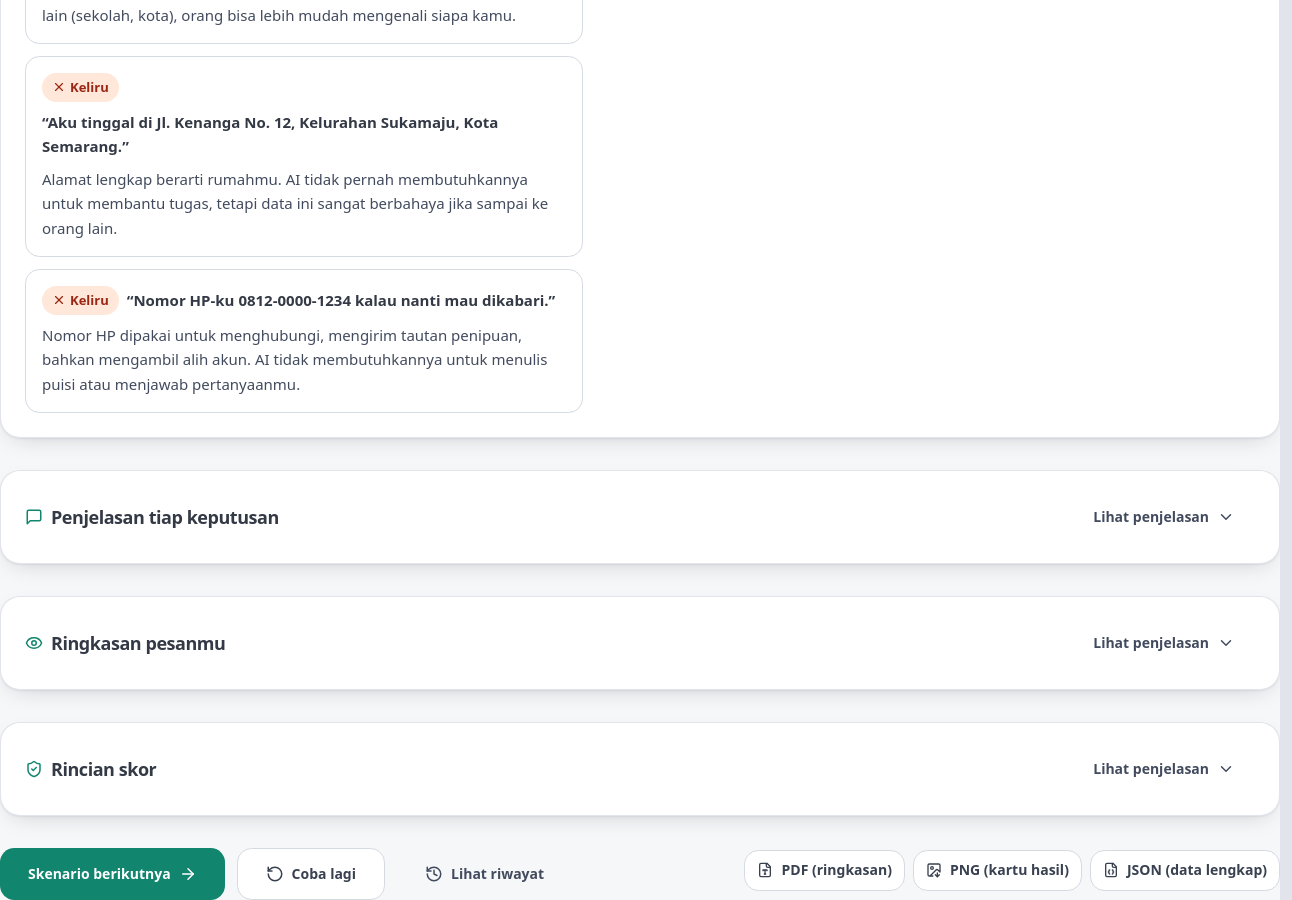
ResultPage — menampilkan hasil › menyembunyikan umpan balik tiap segmen sampai accordion dibuka
This screenshot has width=1292, height=900.
(page scrolled)
Click the button "Lihat penjelasan" in the row of "Penjelasan tiap keputusan" at (1164, 517), box left=1073, top=495, right=1255, bottom=539
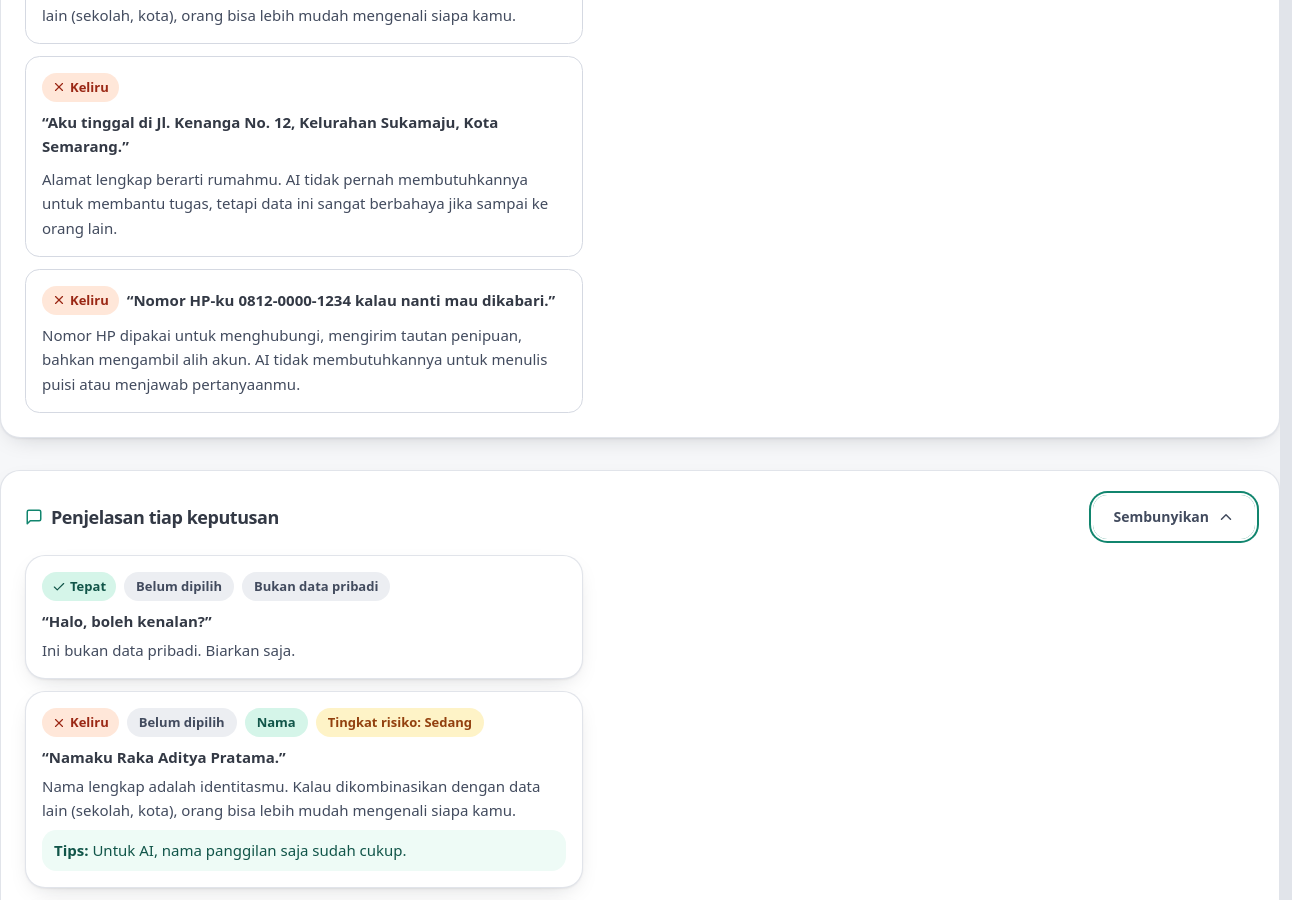
Result: the button "Sembunyikan" is expanded at left=1093, top=495, right=1255, bottom=539
Result: the text "Keliru" below "Halo, boleh kenalan?" is shown at left=70, top=713, right=109, bottom=731
